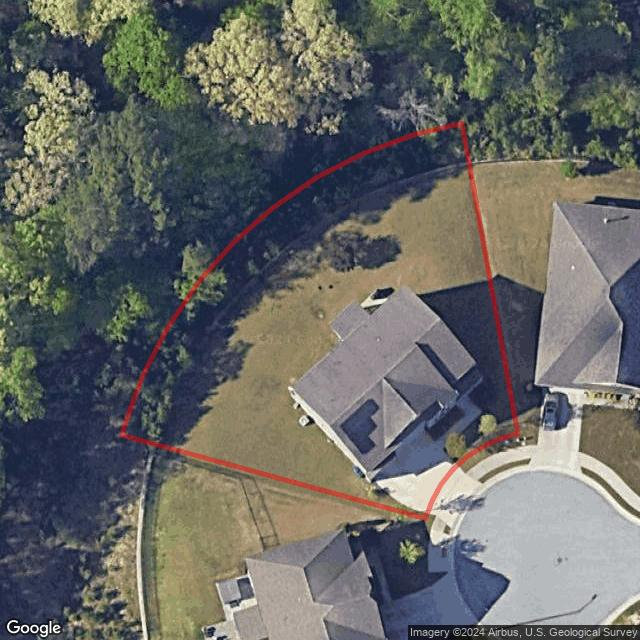Driveway: (373, 425, 455, 513)
Extra-Driveway: (428, 466, 481, 529)
Extra-Lawn: (458, 435, 521, 472), (477, 459, 526, 484), (424, 513, 437, 520)
Extra-Sidewalk: (467, 447, 524, 481), (434, 516, 447, 525)
House: (291, 283, 478, 478)
Lawn: (123, 124, 518, 517)
Other: (123, 125, 468, 442)
Sidewalk: (435, 396, 484, 449)
